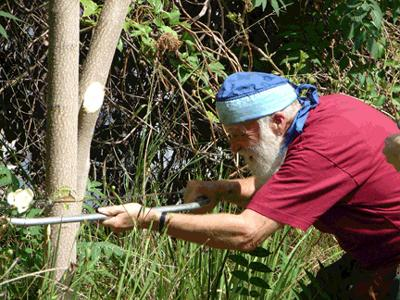person: (95, 72, 400, 300)
